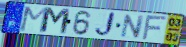6: (71, 10, 93, 37)
F: (141, 15, 169, 41)
J: (93, 11, 117, 39)
M: (40, 6, 72, 36), (18, 6, 50, 35)
N: (119, 13, 146, 39)
